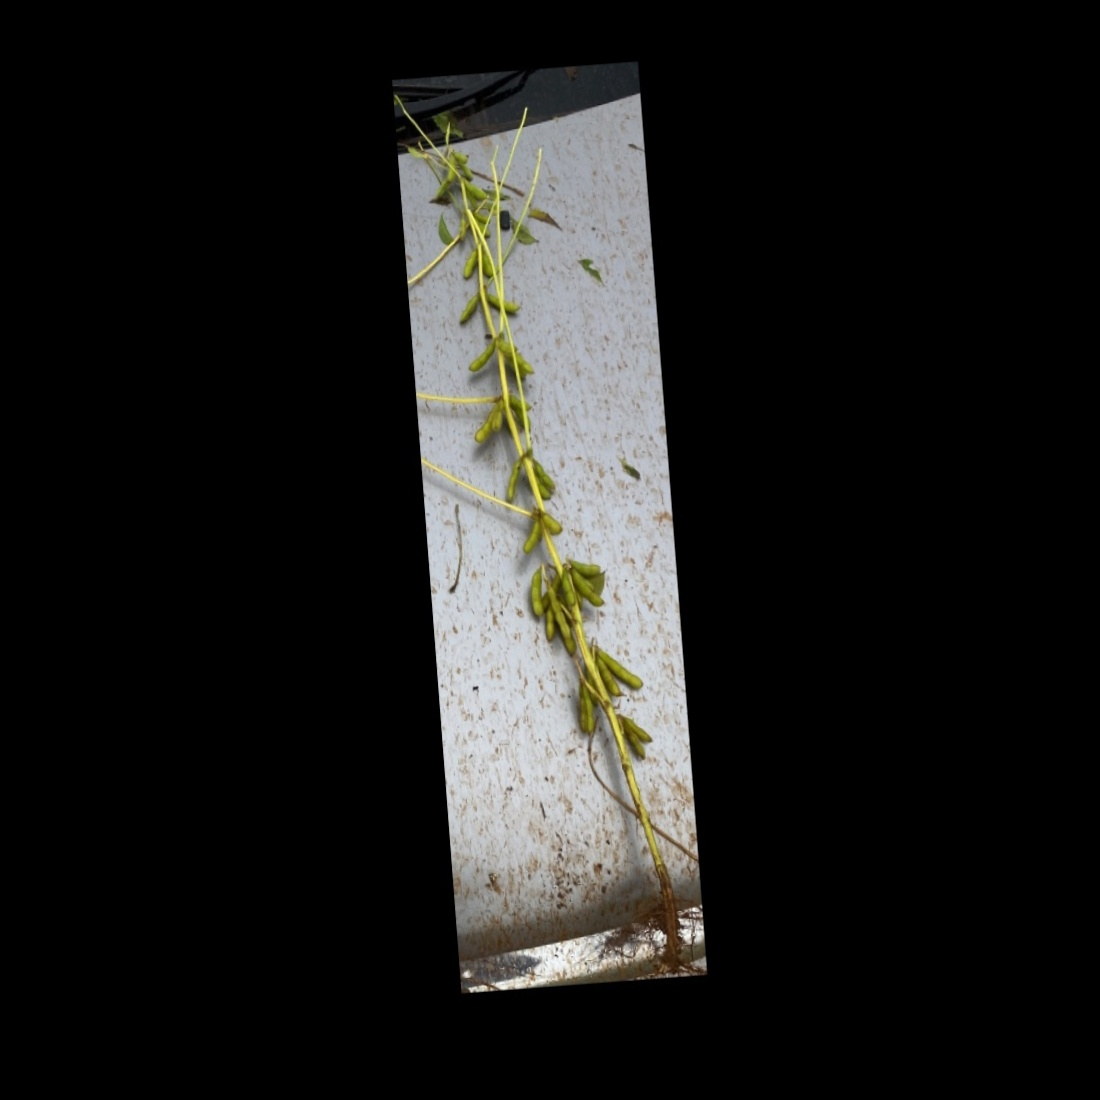pod: (482, 287, 523, 318), (464, 338, 498, 377), (501, 457, 525, 506), (456, 287, 485, 328), (453, 244, 479, 284), (522, 572, 545, 616), (520, 513, 544, 555), (556, 570, 579, 610), (526, 474, 554, 505)
soy: (404, 109, 682, 899)
